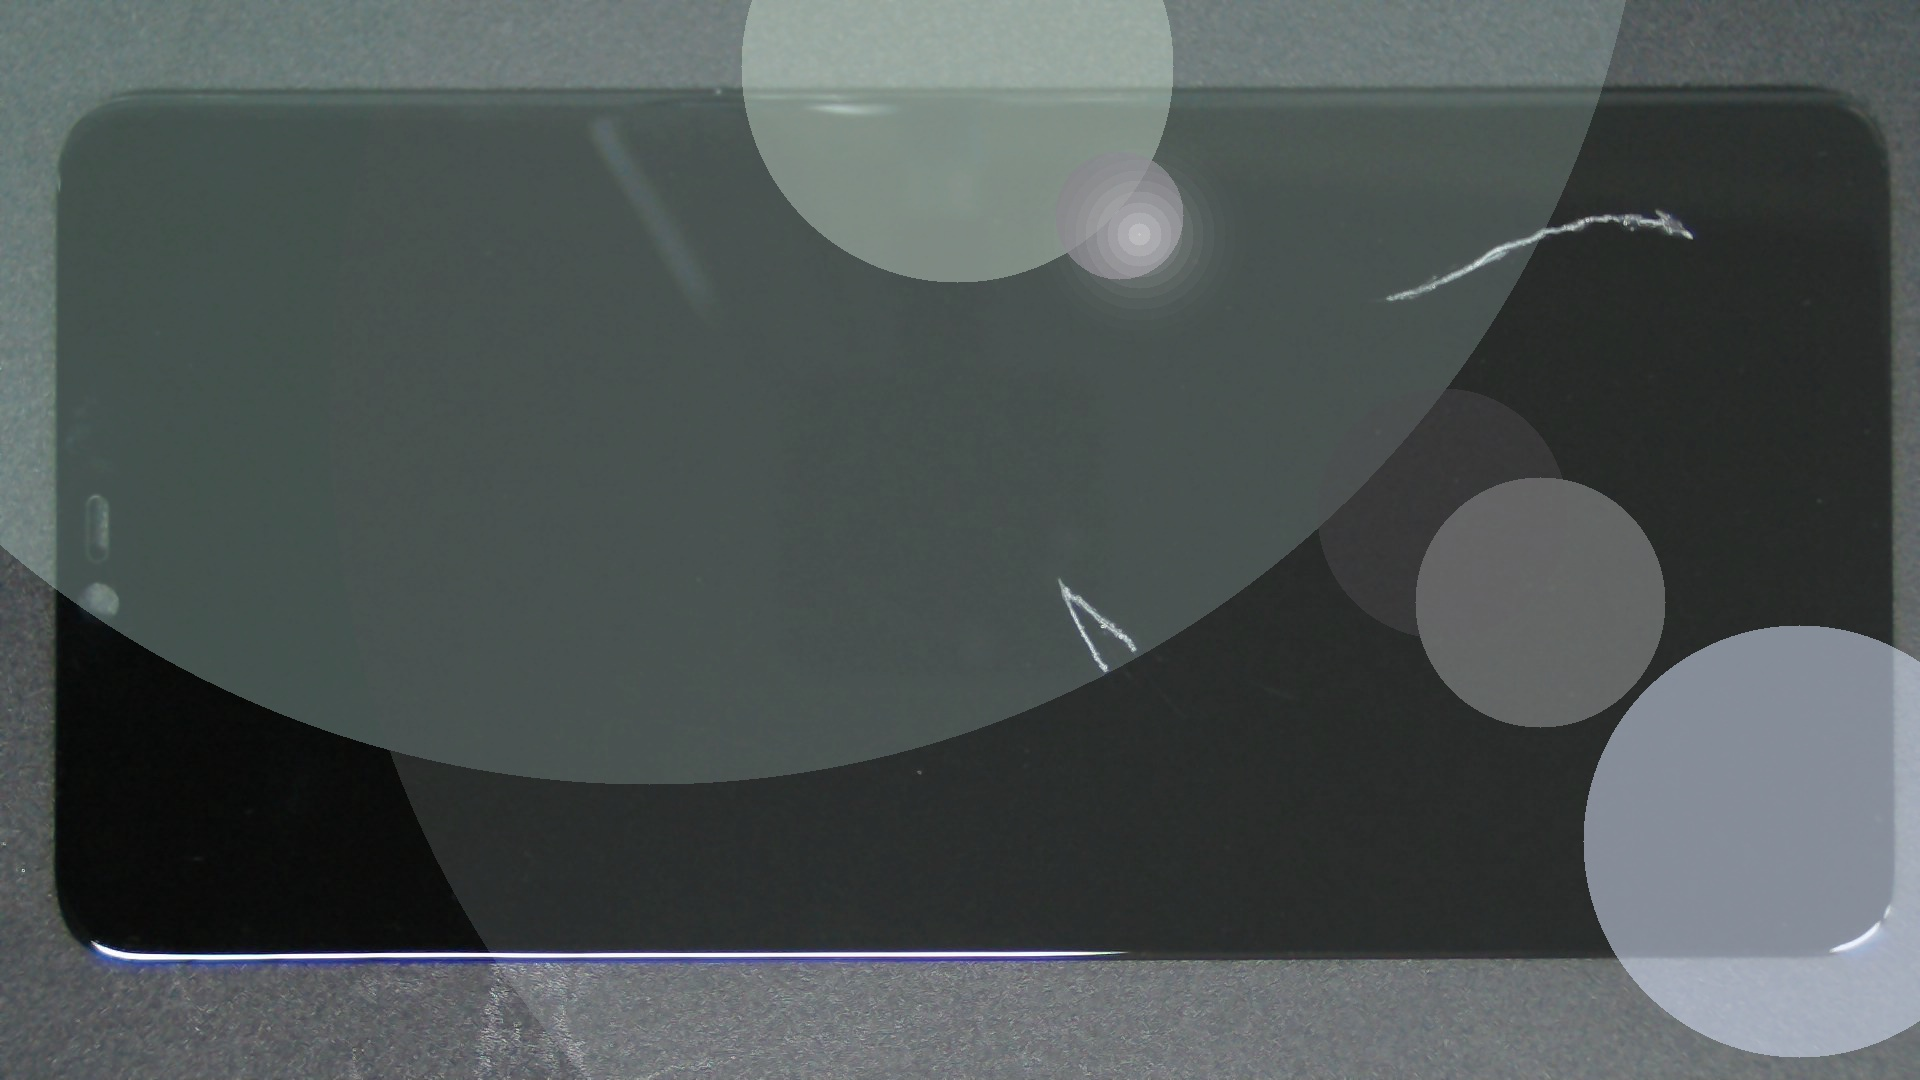oil: (529, 287, 1586, 866), (829, 103, 1920, 313)
